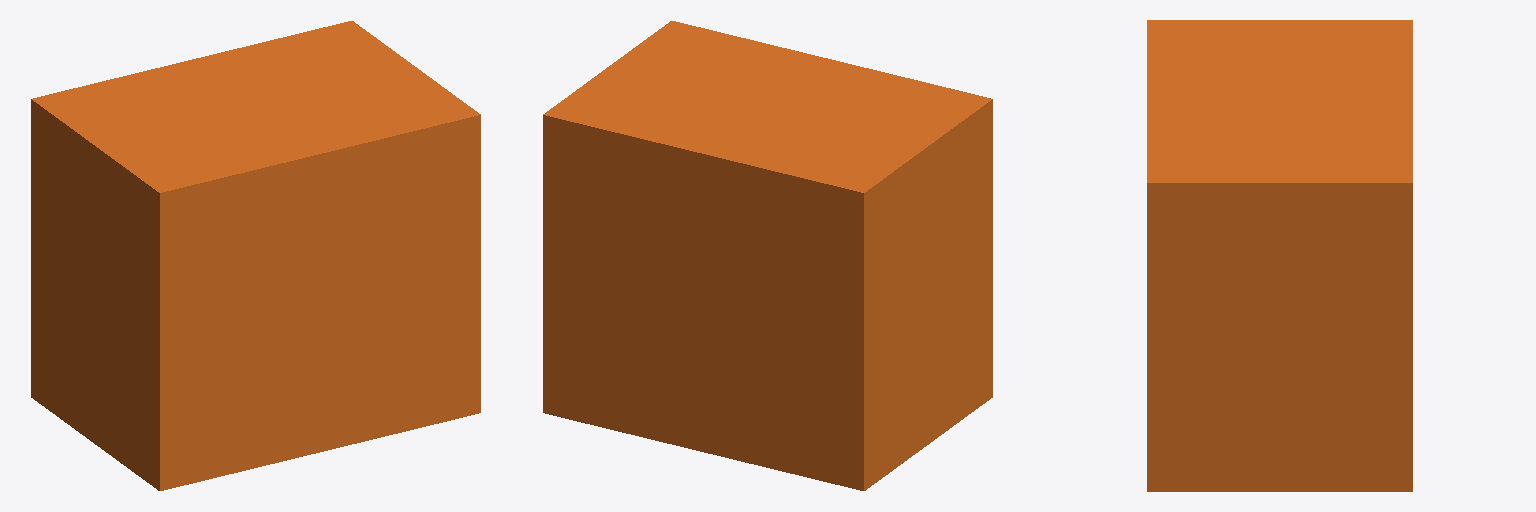
The robot description file, URDF, robot "mug":
<?xml version="1.0"?>
<robot name="mug">
  <link name="base">
    <inertial>
      <mass value="0.3"/>
      <inertia ixx="5e-4" ixy="0" ixz="0" iyy="5e-4" iyz="0" izz="5e-4"/>
    </inertial>
    <visual>
      <origin xyz="0 0 0" rpy="0 0 0"/>
      <geometry><box size="0.12192 0.08466 0.10814"/></geometry>
      <material name="orange"><color rgba="0.9 0.5 0.2 1.0"/></material>
    </visual>
    <collision>
      <origin xyz="0 0 0" rpy="0 0 0"/>
      <geometry><box size="0.12192 0.08466 0.10814"/></geometry>
    </collision>
  </link>
</robot>

--- What the picture shows (computed from the rendered views, not written in the file) ---
The picture shows the robot from 3 angles, left to right: view 1: azimuth 30°, elevation 25°; view 2: azimuth 150°, elevation 25°; view 3: azimuth 270°, elevation 25°; orthographic projection.
Robot: mug — 1 links, 0 joints (none); root link base; default pose: every joint at zero.
Links seen in each view (by area): view 1: base; view 2: base; view 3: base.
Boxes of the visible links, box(x1,y1,x2,y2) form: base: box(31, 21, 480, 490); base: box(543, 21, 992, 490); base: box(1147, 20, 1412, 491).
Bounding box of the posed robot: 0.1219 × 0.0847 × 0.1081 m (x, y, z).
Geometry: primitives only (box / cylinder / sphere), no mesh files.
